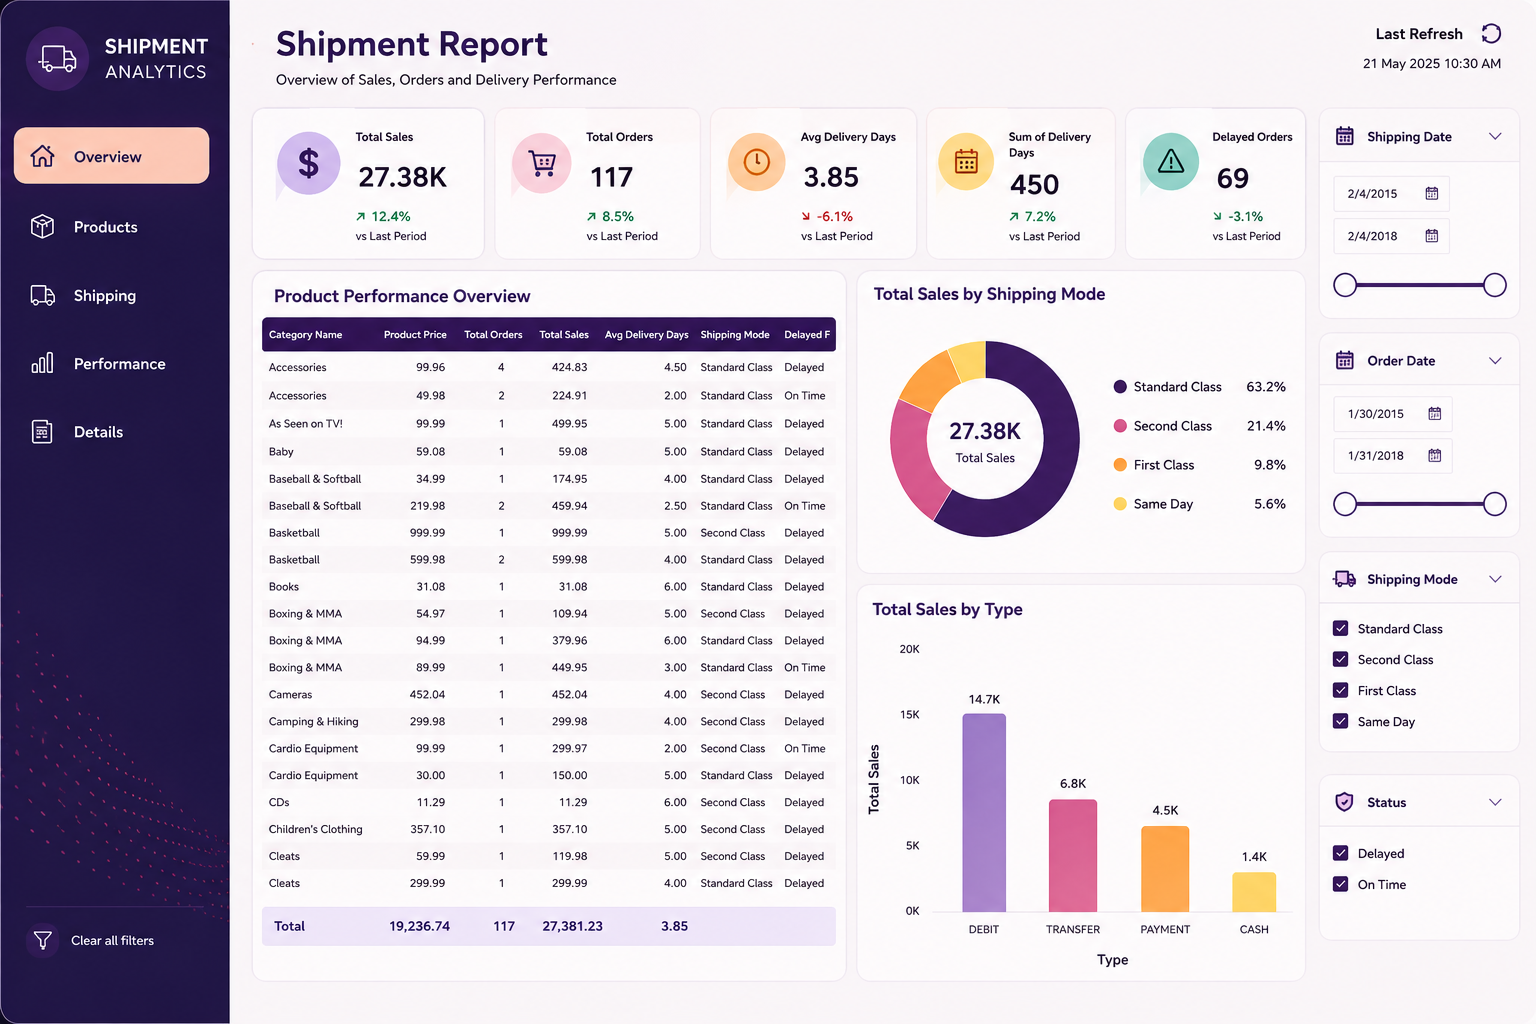

Layout of this report page (visuals, bound fields, positions):
{"tool":"powerbi","page":{"name":"Page 1","canvas":[1280,720],"ordinal":0},"visuals":[{"type":"textbox","box":[0,0,1280.3,59.8],"z":0},{"type":"tableEx","fields":{"Values":["Logistics_data.Category Name","Sum(Logistics_data.Product Price)","Logistics_data.TotalOrders","Logistics_data.Total Sales","Logistics_data.Avg Delivery Days","Logistics_data.Shipping Mode","Logistics_data.Delayed Flag"]},"box":[0,184.5,704.3,536],"z":1000},{"type":"donutChart","fields":{"Y":["Logistics_data.Total Sales"],"Category":["Logistics_data.Shipping Mode"]},"box":[704.3,184.5,377.7,221.9],"z":2000},{"type":"card","fields":{"Values":["Logistics_data.Total Sales"]},"box":[0,58.6,200.7,113.4],"z":3000},{"type":"card","fields":{"Values":["Logistics_data.TotalOrders"]},"box":[235.6,58.6,205.7,114.7],"z":4000},{"type":"card","fields":{"Values":["Logistics_data.Avg Delivery Days"]},"box":[455,59.8,200.7,113.4],"z":5000},{"type":"card","fields":{"Values":["Sum(Logistics_data.Delivery Days)"]},"box":[666.9,59.8,200.7,113.4],"z":6000},{"type":"card","fields":{"Values":["Logistics_data.Delayed Orders"]},"box":[877.6,59.8,192,113.4],"z":7000},{"type":"slicer","fields":{"Values":["Logistics_data.order date (DateOrders)"]},"box":[1082,244.3,198.2,162.1],"z":8000},{"type":"slicer","fields":{"Values":["Logistics_data.shipping date (DateOrders)"]},"box":[1082,68.6,198.2,175.8],"z":9000},{"type":"stackedAreaChart","fields":{"Category":["Logistics_data.Type"],"Y":["Logistics_data.Total Sales"]},"box":[704.3,416.4,575.9,304.2],"z":10000}]}

Visuals, with their boxes on the page's 1280x720 design canvas (x1, y1, x2, y2). These are canvas units, not pixel positions in the 1536x1024 screenshot, which may show the page scaled, cropped or inside an application window:
textbox: 0,0,1280,60
tableEx - Logistics_data.Category Name x Sum(Logistics_data.Product Price): 0,184,704,720
donutChart - Logistics_data.Total Sales x Logistics_data.Shipping Mode: 704,184,1082,406
card - Logistics_data.Total Sales: 0,59,201,172
card - Logistics_data.TotalOrders: 236,59,441,173
card - Logistics_data.Avg Delivery Days: 455,60,656,173
card - Sum(Logistics_data.Delivery Days): 667,60,868,173
card - Logistics_data.Delayed Orders: 878,60,1070,173
slicer - Logistics_data.order date (DateOrders): 1082,244,1280,406
slicer - Logistics_data.shipping date (DateOrders): 1082,69,1280,244
stackedAreaChart - Logistics_data.Type x Logistics_data.Total Sales: 704,416,1280,721
